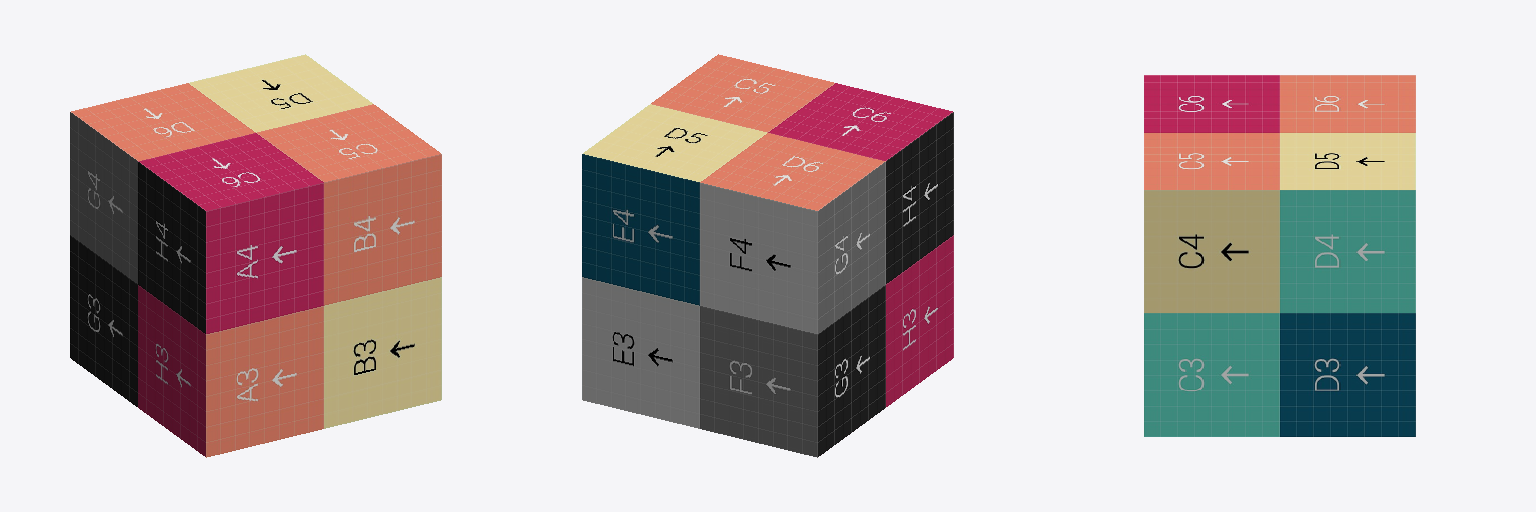
The picture shows the model from 3 angles: view 1: azimuth 30°, elevation 25°; view 2: azimuth 150°, elevation 25°; view 3: azimuth 270°, elevation 25°; orthographic projection.
Visible parts, largest first — view 1: Cube; view 2: Cube; view 3: Cube.
Boxes of the visible parts, x1,y1,x2,y2 form: Cube: [70, 54, 441, 457]; Cube: [582, 54, 953, 457]; Cube: [1144, 75, 1415, 436].
Bounding box in the file's own units: 2 × 2 × 2.
Materials: 1 (1 with a texture image).